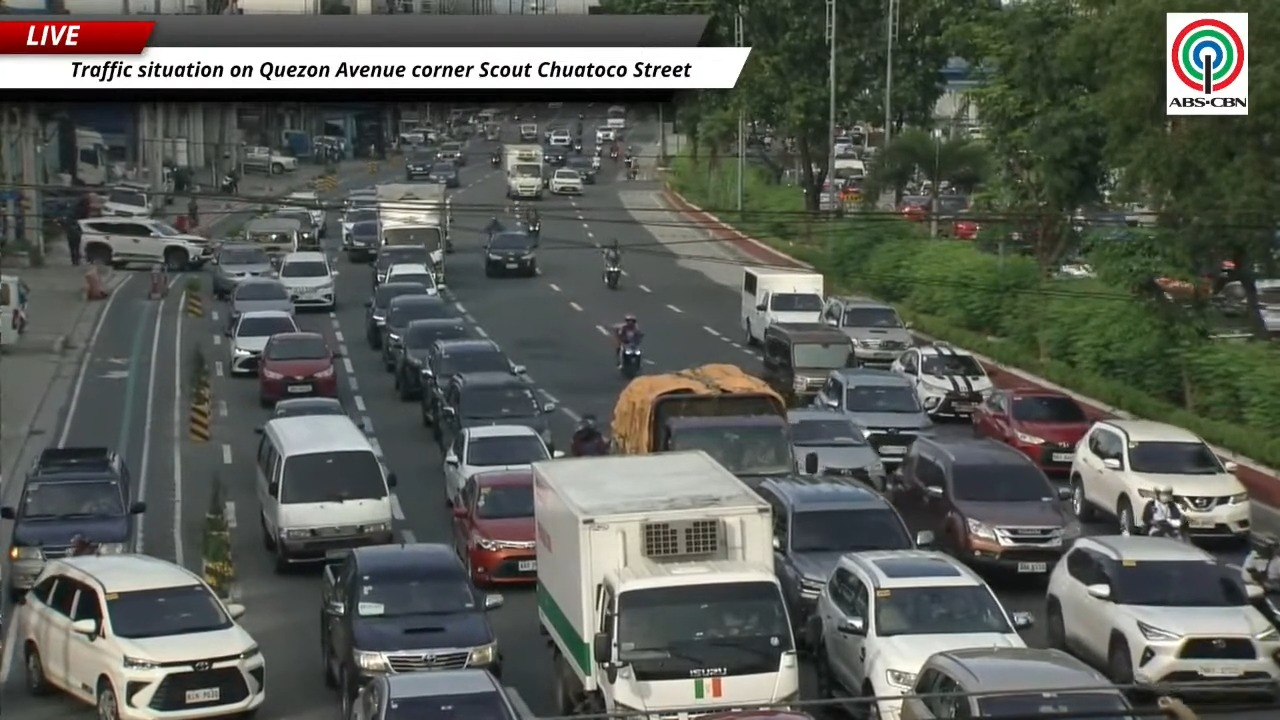bus: (606, 106, 625, 129)
car: (15, 554, 265, 719), (808, 550, 1032, 716), (1045, 536, 1279, 686), (321, 543, 501, 717), (755, 478, 931, 637), (892, 437, 1080, 575), (253, 416, 397, 572), (0, 447, 145, 594), (1069, 419, 1249, 537), (899, 648, 1133, 719), (814, 368, 932, 465), (972, 388, 1090, 474), (452, 470, 536, 585), (444, 424, 562, 505), (432, 370, 554, 448), (344, 668, 526, 719), (420, 338, 525, 426), (787, 407, 886, 490), (890, 343, 993, 418), (761, 323, 851, 404), (78, 217, 212, 271), (822, 296, 914, 365), (394, 317, 467, 400), (380, 294, 456, 371), (258, 333, 337, 406), (226, 310, 298, 375), (365, 282, 431, 349), (271, 396, 369, 433), (212, 243, 275, 299), (227, 277, 294, 326), (279, 251, 335, 309), (484, 231, 537, 277), (372, 245, 430, 286), (270, 206, 321, 249), (102, 182, 162, 217), (286, 191, 326, 236), (240, 146, 298, 175), (384, 262, 437, 293), (272, 396, 346, 418), (343, 219, 380, 262), (931, 194, 969, 235), (341, 205, 377, 244), (344, 186, 376, 221), (405, 146, 436, 181), (950, 209, 980, 240), (566, 155, 596, 184), (549, 168, 582, 194), (897, 196, 931, 221), (426, 162, 459, 187), (437, 141, 465, 165), (544, 145, 568, 168), (543, 122, 567, 143), (548, 128, 571, 146), (519, 123, 539, 143), (595, 126, 616, 145)
motorcycle: (1146, 518, 1189, 541), (570, 433, 609, 456), (621, 343, 642, 378), (603, 265, 620, 289), (220, 173, 237, 194), (526, 219, 540, 236), (627, 161, 637, 180), (491, 153, 501, 167), (592, 155, 600, 171), (573, 140, 582, 153), (610, 149, 618, 160)
truck: (533, 451, 798, 716), (611, 364, 795, 483), (375, 183, 450, 286), (741, 267, 824, 344), (40, 117, 115, 187), (504, 144, 545, 198)
